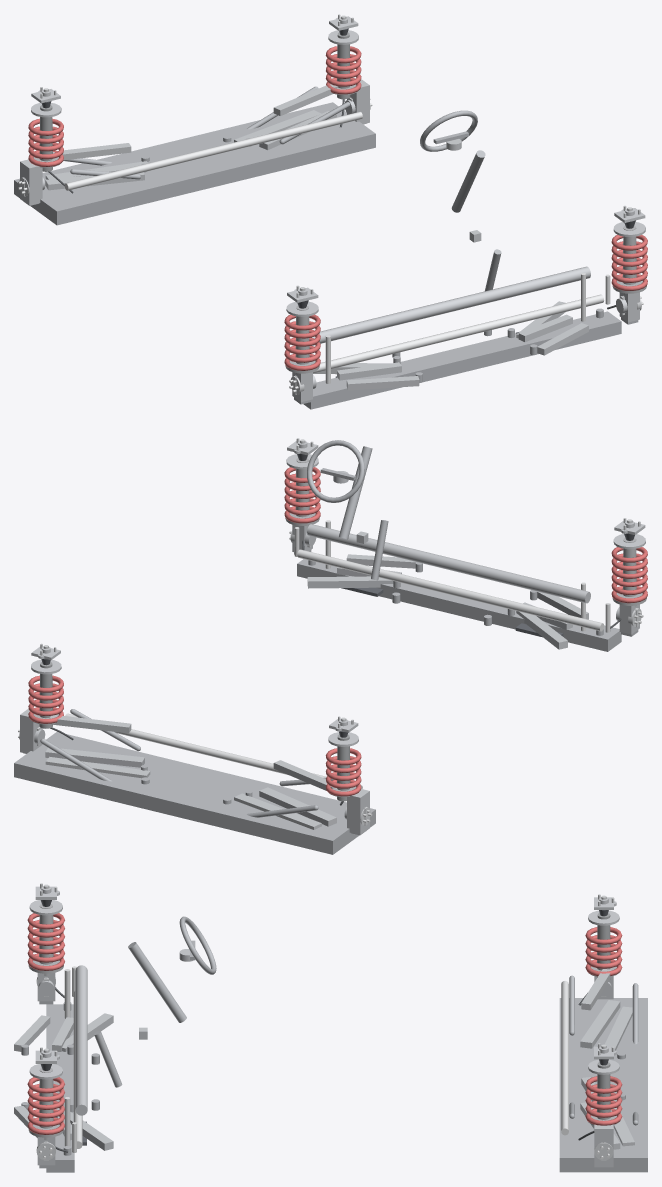
Rendered from susp.glb.
3 views of the same model, one above another, from view 1: azimuth 30°, elevation 25°; view 2: azimuth 150°, elevation 25°; view 3: azimuth 270°, elevation 25° (orthographic). The views are drawn at different scales.
Parts seen in each view (by area): view 1: rearSubframe, frontSubframe, steeringRack, frontAntiRollBar, rearAntiRollBar, frontLowerControlArmLeft_fwd, rearWheelCarrierLeft_body, rearArmUpper_Left, frontLowerControlArmLeft_aft, rearArmUpper_Right, steeringWheelRim, steeringColumnUpper (+4 smaller); view 2: rearSubframe, frontSubframe, steeringRack, frontAntiRollBar, rearAntiRollBar, steeringWheelRim, rearArmLower_Right, frontTrailingArmRight_arm, rearArmLower_Left, rearTrailingArmRight_arm, rearArmUpper_Right, rearWheelCarrierLeft_body (+6 smaller); view 3: rearSubframe, frontSubframe, steeringRack, rearAntiRollBar, steeringColumnUpper, rearArmLower_Left, steeringWheelRim, frontAntiRollBar, rearWheelCarrierRight_body, rearTrailingArmLeft_arm, rearArmUpper_Left, frontLowerControlArmLeft_fwd (+7 smaller).
Boxes of the visible parts, x1,y1,x2,y2 form: rearSubframe: (14, 102, 375, 225); frontSubframe: (303, 311, 621, 409); steeringRack: (311, 266, 590, 345); frontAntiRollBar: (313, 294, 604, 373); rearAntiRollBar: (64, 111, 362, 190); frontLowerControlArmLeft_fwd: (346, 376, 419, 390); rearWheelCarrierLeft_body: (20, 159, 42, 205); rearArmUpper_Left: (53, 143, 131, 160); frontLowerControlArmLeft_aft: (337, 362, 401, 380); rearArmUpper_Right: (273, 84, 338, 115); steeringWheelRim: (420, 110, 477, 151); steeringColumnUpper: (451, 150, 485, 212); rearSubframe: (14, 732, 375, 854); frontSubframe: (297, 559, 621, 651); steeringRack: (307, 524, 590, 603); frontAntiRollBar: (297, 549, 603, 631); rearAntiRollBar: (65, 713, 362, 788); steeringWheelRim: (307, 440, 364, 502); rearArmLower_Right: (45, 747, 144, 767); frontTrailingArmRight_arm: (307, 576, 393, 588); rearArmLower_Left: (259, 787, 336, 826); rearTrailingArmRight_arm: (45, 756, 150, 778); rearArmUpper_Right: (49, 715, 131, 733); rearWheelCarrierLeft_body: (347, 789, 369, 834); rearSubframe: (559, 998, 647, 1172); frontSubframe: (46, 1004, 74, 1172); steeringRack: (75, 965, 87, 1115); rearAntiRollBar: (561, 981, 568, 1135); steeringColumnUpper: (128, 942, 186, 1022); rearArmLower_Left: (580, 1000, 620, 1048); steeringWheelRim: (179, 916, 216, 974); frontAntiRollBar: (73, 991, 82, 1148); rearWheelCarrierRight_body: (594, 1124, 613, 1167); rearTrailingArmLeft_arm: (604, 1006, 632, 1050); rearArmUpper_Left: (581, 969, 612, 1010); frontLowerControlArmLeft_fwd: (14, 1015, 50, 1051).
Size of the model in its own units: 2.41 by 1.27 by 3.59.
